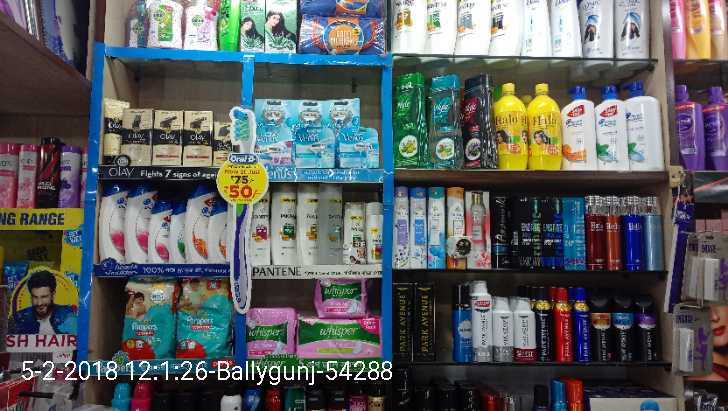venus: (336, 125, 377, 166), (297, 128, 336, 166), (259, 128, 297, 164), (256, 98, 294, 121), (327, 100, 362, 123), (294, 100, 327, 121)
